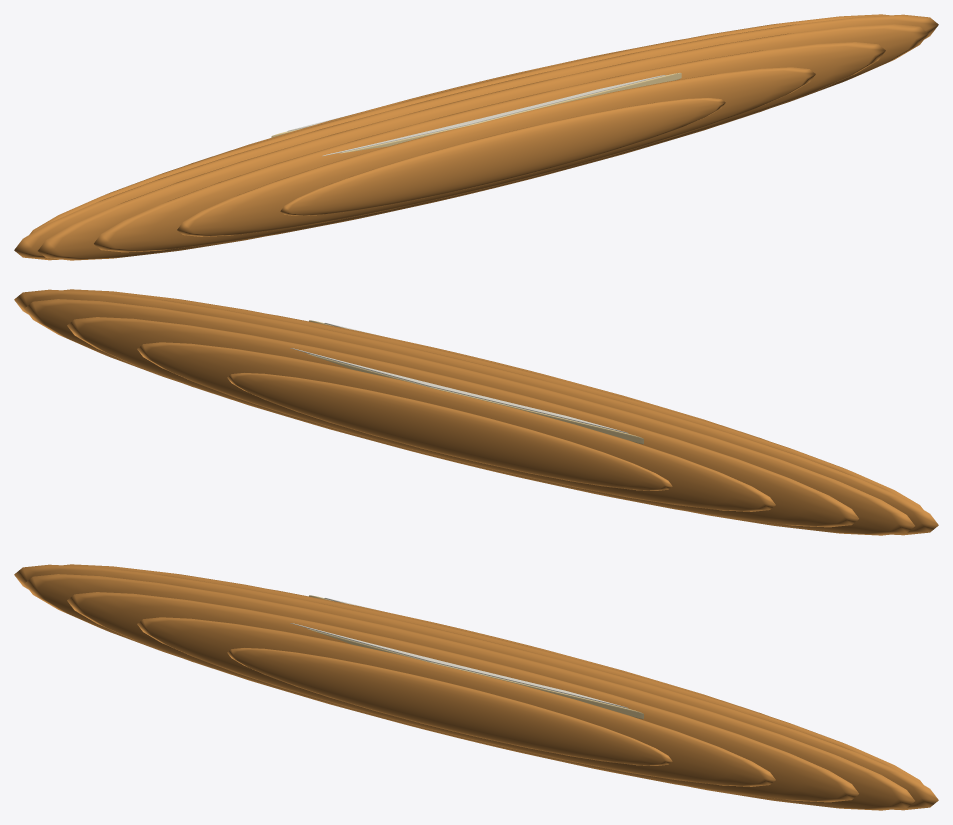
File: wp-baguette.glb
The picture shows the model from 3 angles, top to bottom: view 1: azimuth 30°, elevation 25°; view 2: azimuth 150°, elevation 25°; view 3: azimuth 330°, elevation 25°; orthographic projection.
Visible parts, largest first — view 1: wp-baguette; view 2: wp-baguette; view 3: wp-baguette.
Part boxes in pixels (x1,y1,x2,y2): wp-baguette: (14, 14, 938, 260); wp-baguette: (14, 289, 938, 535); wp-baguette: (14, 564, 938, 810).
Bounding box in the file's own units: 0.65 × 0.065 × 0.075.
